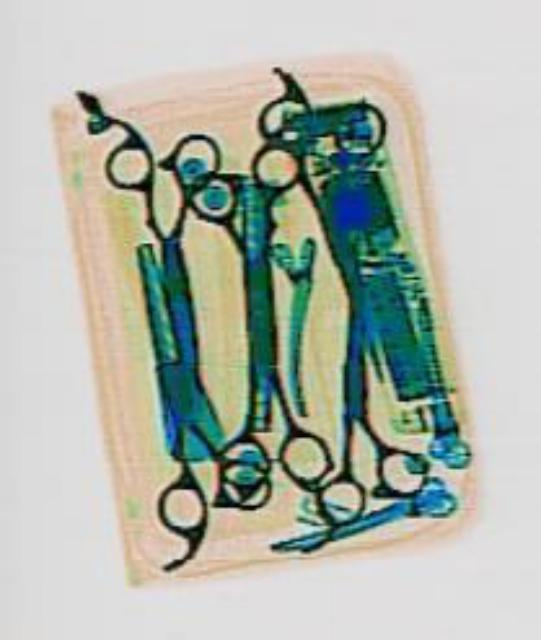Scissors: (80, 224, 273, 536), (189, 183, 328, 492), (96, 126, 250, 394), (292, 240, 425, 518), (178, 137, 319, 386)
